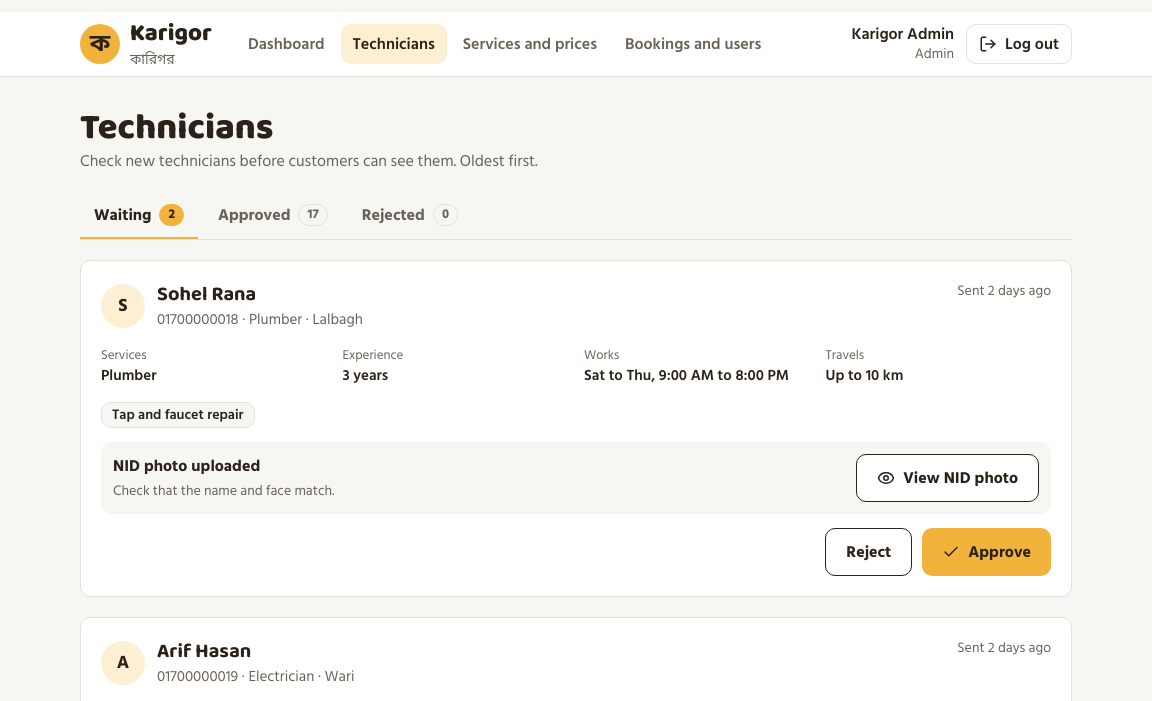
Test case: waiting technicians › approves, removes the card and updates the counts
This screenshot has width=1152, height=701.
Click the button "Approve" at (987, 552), box [922, 528, 1051, 576]
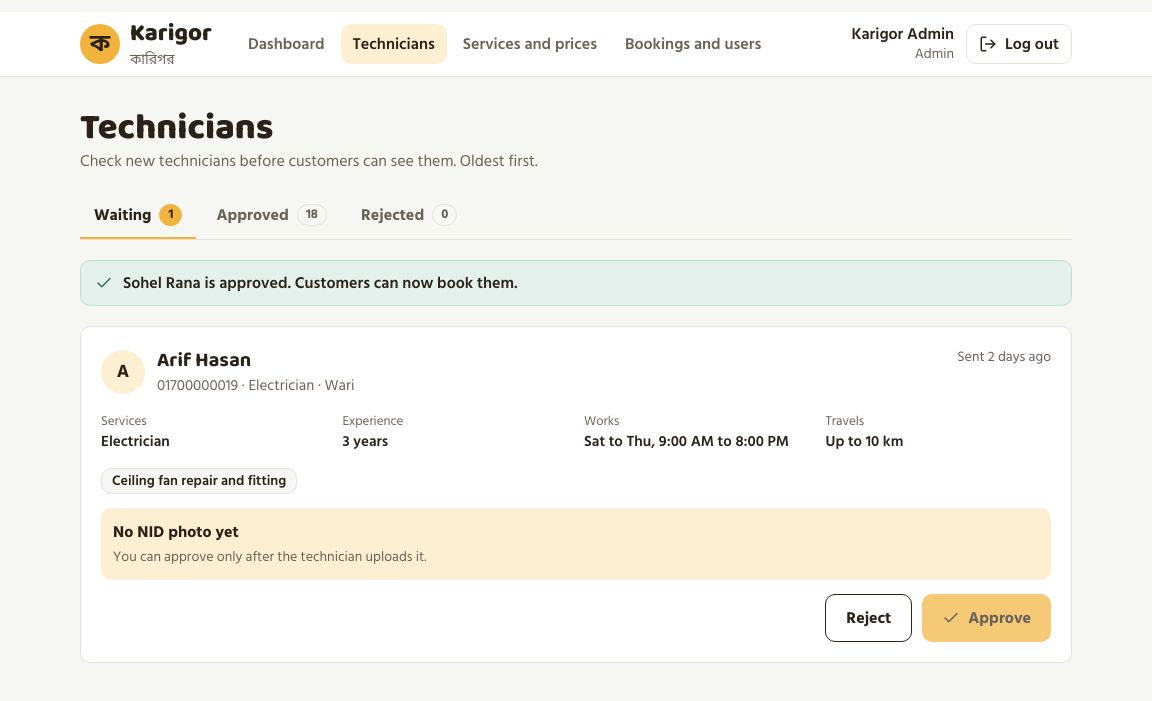
Expected: the message reads "Sohel Rana is approved. Customers can now book them.", [123, 270, 518, 296]
Expected: the tabs read "Waiting1", "Approved18", "Rejected0", in this order, [80, 193, 196, 240]; [202, 193, 341, 240]; [347, 193, 471, 240]
